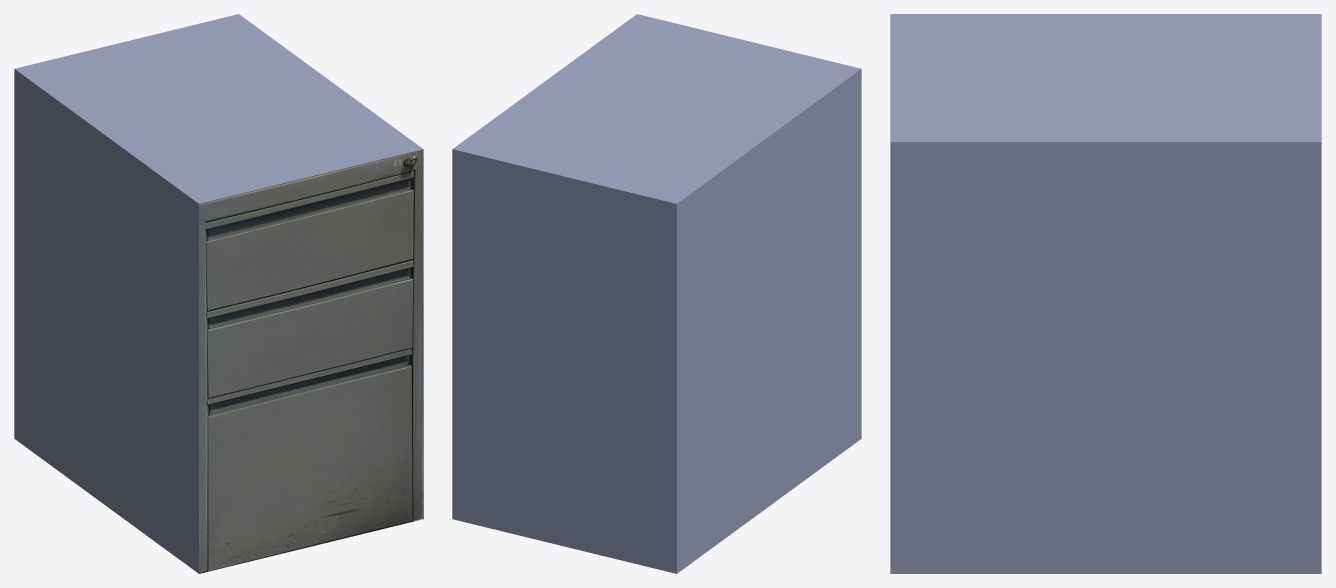
File: CabinetGray.fbx
The picture shows the model from 3 angles, left to right: view 1: azimuth 30°, elevation 25°; view 2: azimuth 150°, elevation 25°; view 3: azimuth 270°, elevation 25°; orthographic projection. The views are drawn at different scales.
Parts seen in each view (by area): view 1: CabinetGrayPt; view 2: CabinetGrayPt; view 3: CabinetGrayPt.
Boxes of the visible parts, x1,y1,x2,y2 form: CabinetGrayPt: (14, 14, 423, 573); CabinetGrayPt: (452, 14, 861, 573); CabinetGrayPt: (890, 14, 1321, 573).
Bounding box in the file's own units: 0.4 × 0.63 × 0.57.
Materials: 2 (1 with a texture image).
